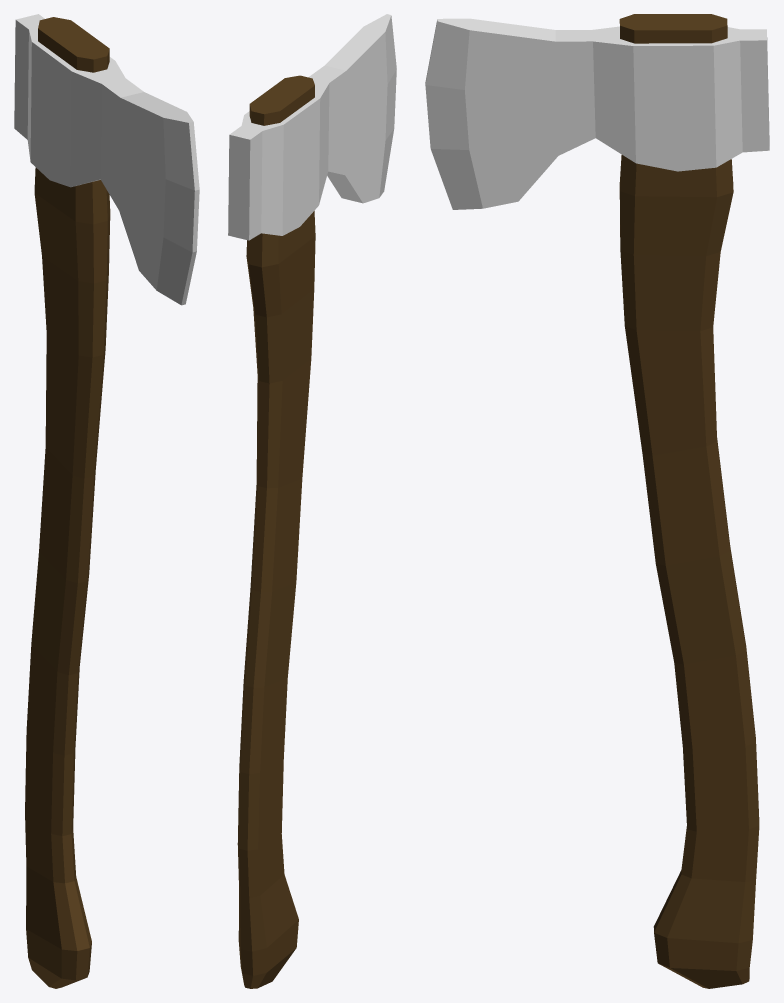
File: axe.glb
3 views of the same model, side by side, from view 1: azimuth 30°, elevation 25°; view 2: azimuth 150°, elevation 25°; view 3: azimuth 270°, elevation 25° (orthographic). The views are drawn at different scales.
Parts seen in each view (by area): view 1: axe; view 2: axe; view 3: axe.
Boxes of the visible parts, left/top/right/bottom form: axe: left=14, top=14, right=199, bottom=988; axe: left=228, top=14, right=396, bottom=988; axe: left=425, top=14, right=769, bottom=988.
Size of the model in its own units: 86.67 by 1831 by 591.
